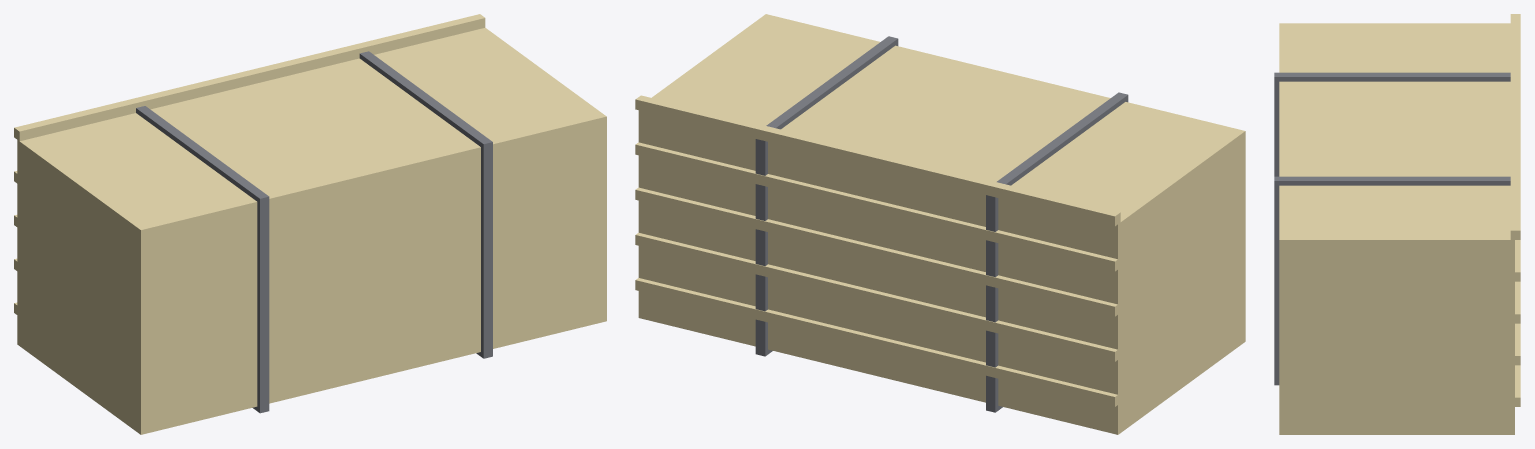
Rendered from straw-bale.glb.
The picture shows the model from 3 angles, left to right: view 1: azimuth 30°, elevation 25°; view 2: azimuth 150°, elevation 25°; view 3: azimuth 270°, elevation 25°; orthographic projection. The views are drawn at different scales.
Visible parts, largest first — view 1: straw-bale; view 2: straw-bale; view 3: straw-bale.
Boxes of the visible parts, bbox=[...] form: straw-bale: bbox=[14, 14, 606, 434]; straw-bale: bbox=[635, 14, 1245, 434]; straw-bale: bbox=[1274, 14, 1520, 434].
Size of the model in its own units: 1 by 0.45 by 0.4812.
